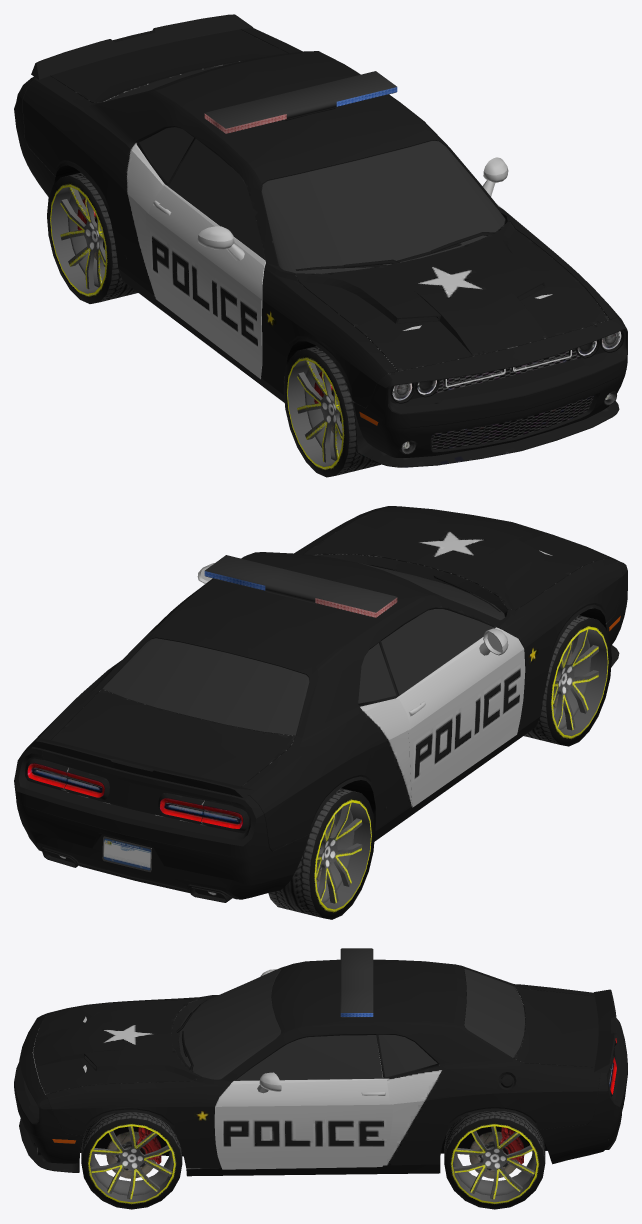
File: Police.fbx
3 renders of one model, top to bottom at view 1: azimuth 30°, elevation 25°; view 2: azimuth 150°, elevation 25°; view 3: azimuth 270°, elevation 25°, orthographic. The views are drawn at different scales.
Parts seen in each view (by area): view 1: Challenger, Challenger_kapot, callanger2017_glass, Challenger_doorR, Challenger_bagajnik, Challenger_wheel_1, Challenger_wheel_3, Challenger_doorR_glass, police_strob, Challenger_light, Challenger_doorL; view 2: Challenger, Challenger_bagajnik, callanger2017_glass, Challenger_kapot, Challenger_doorR, Challenger_wheel_3, Challenger_wheel_1, Challenger_doorR_glass, police_strob, License_Plate_2, Challenger_stopUp, Challenger_stop (+1 smaller); view 3: Challenger, Challenger_doorL, callanger2017_glass, Challenger_kapot, Challenger_bagajnik, Challenger_wheel_2, Challenger_wheel, Challenger_doorL_glass, police_strob, Brake, Brake_2.
Part boxes in pixels (<box>): Challenger: <box>14,27,627,467</box>; Challenger_kapot: <box>295,221,609,371</box>; callanger2017_glass: <box>104,63,505,273</box>; Challenger_doorR: <box>146,184,265,379</box>; Challenger_bagajnik: <box>31,14,287,102</box>; Challenger_wheel_1: <box>283,346,380,477</box>; Challenger_wheel_3: <box>47,172,137,303</box>; Challenger_doorR_glass: <box>168,139,265,260</box>; police_strob: <box>205,71,396,133</box>; Challenger_light: <box>392,331,621,453</box>; Challenger_doorL: <box>482,157,508,209</box>; Challenger: <box>14,506,627,902</box>; Challenger_bagajnik: <box>31,689,295,824</box>; callanger2017_glass: <box>102,563,504,735</box>; Challenger_kapot: <box>304,506,609,610</box>; Challenger_doorR: <box>396,627,525,807</box>; Challenger_wheel_3: <box>268,788,375,919</box>; Challenger_wheel_1: <box>524,615,611,746</box>; Challenger_doorR_glass: <box>381,609,494,695</box>; police_strob: <box>205,555,396,617</box>; License_Plate_2: <box>102,836,151,872</box>; Challenger_stopUp: <box>64,772,203,821</box>; Challenger_stop: <box>27,763,242,828</box>; Challenger: <box>14,959,627,1176</box>; Challenger_doorL: <box>215,1072,393,1169</box>; callanger2017_glass: <box>178,968,525,1079</box>; Challenger_kapot: <box>33,997,201,1094</box>; Challenger_bagajnik: <box>513,986,616,1081</box>; Challenger_wheel_2: <box>444,1111,545,1209</box>; Challenger_wheel: <box>81,1112,182,1209</box>; Challenger_doorL_glass: <box>235,1035,382,1080</box>; police_strob: <box>340,948,373,1017</box>; Brake: <box>106,1127,161,1178</box>; Brake_2: <box>469,1127,524,1178</box>.
Bounding box in the file's own units: 294 × 216 × 667.
